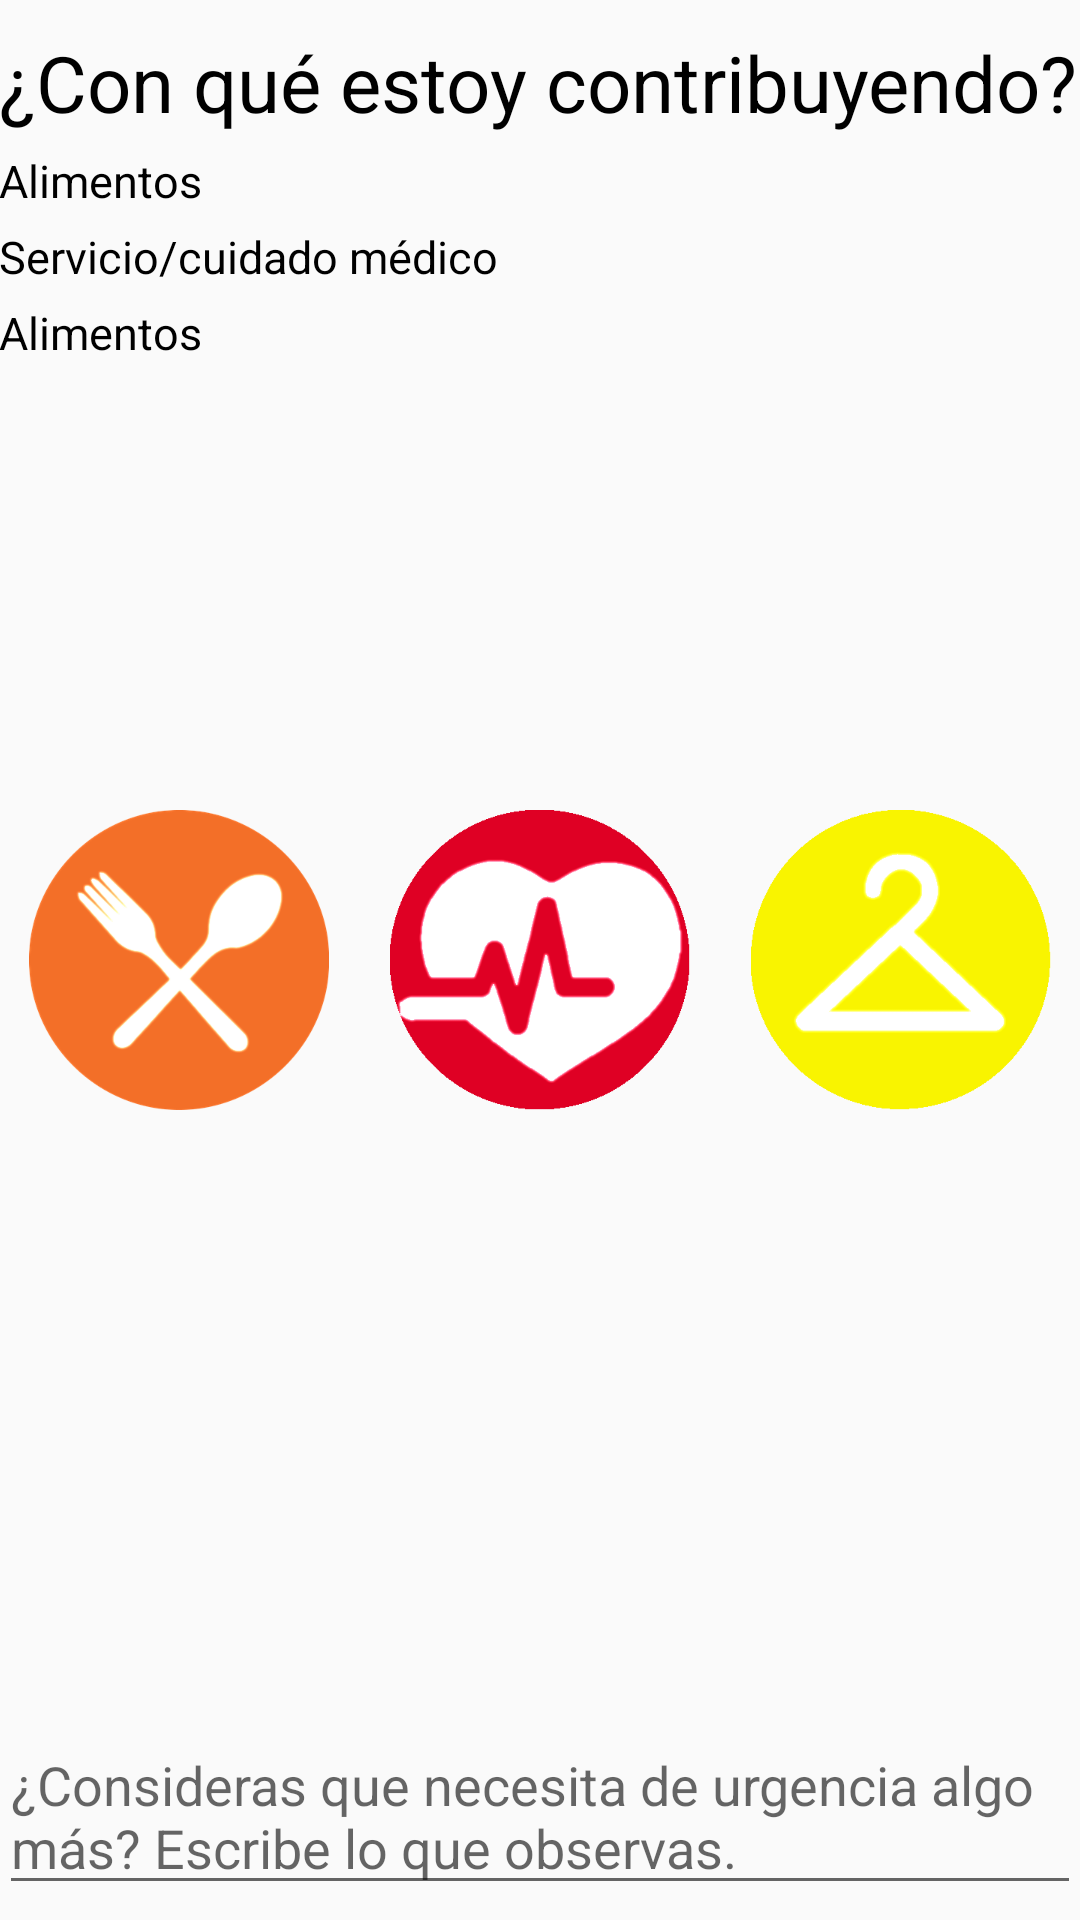

Named icons in this screenshot (1080x1920) and their centers, [x,y]:
clotheyeah: [901,960]
foodyeah: [179,960]
healthyeah: [540,960]
